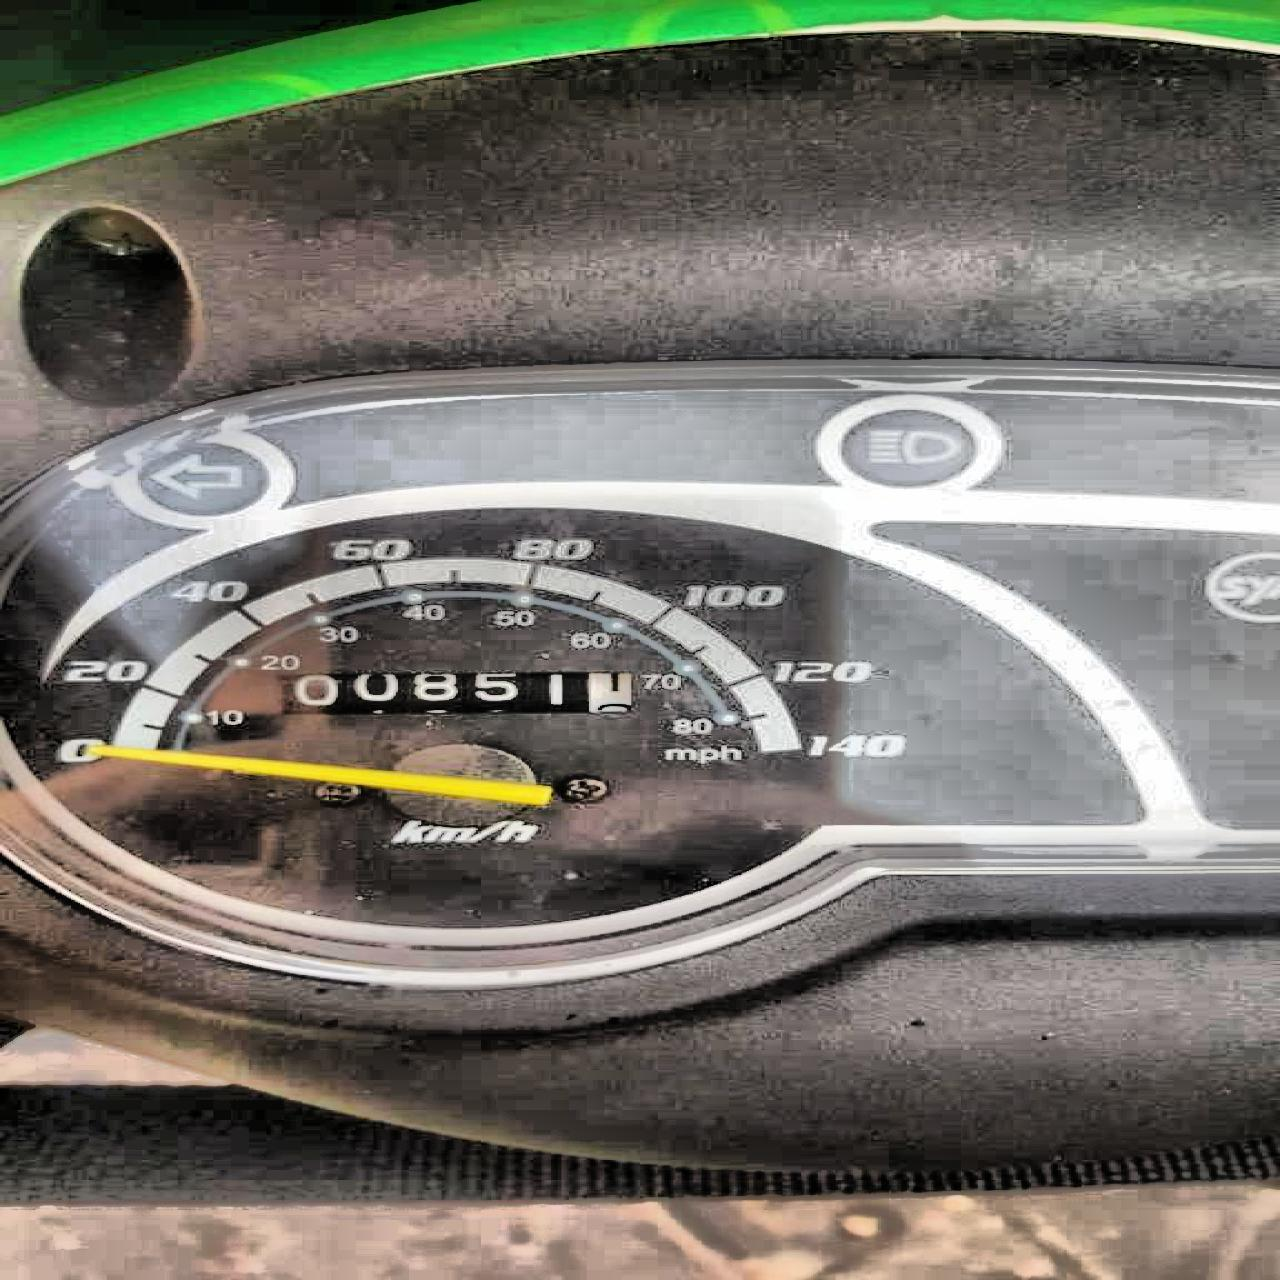0: (290, 673, 338, 707), (349, 670, 400, 701)
1: (540, 670, 568, 704), (595, 668, 628, 694)
5: (469, 669, 518, 702)
8: (411, 670, 458, 701)
odometer: (268, 665, 642, 717)
